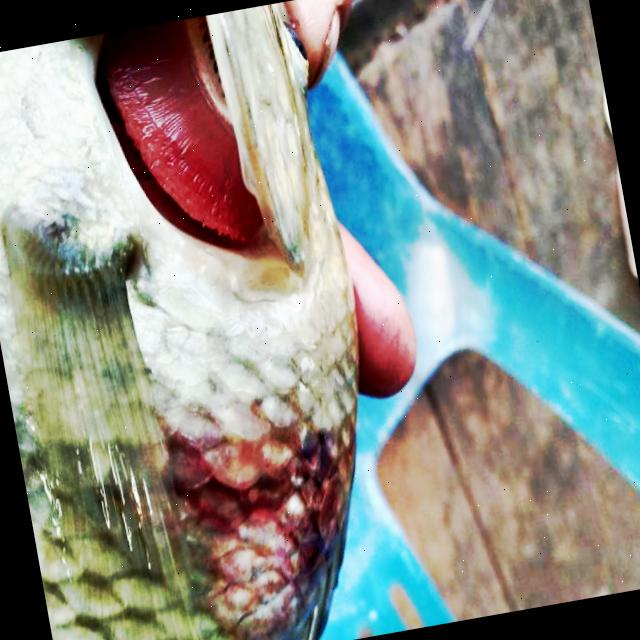Columnaris Disease: (0, 3, 357, 640)
